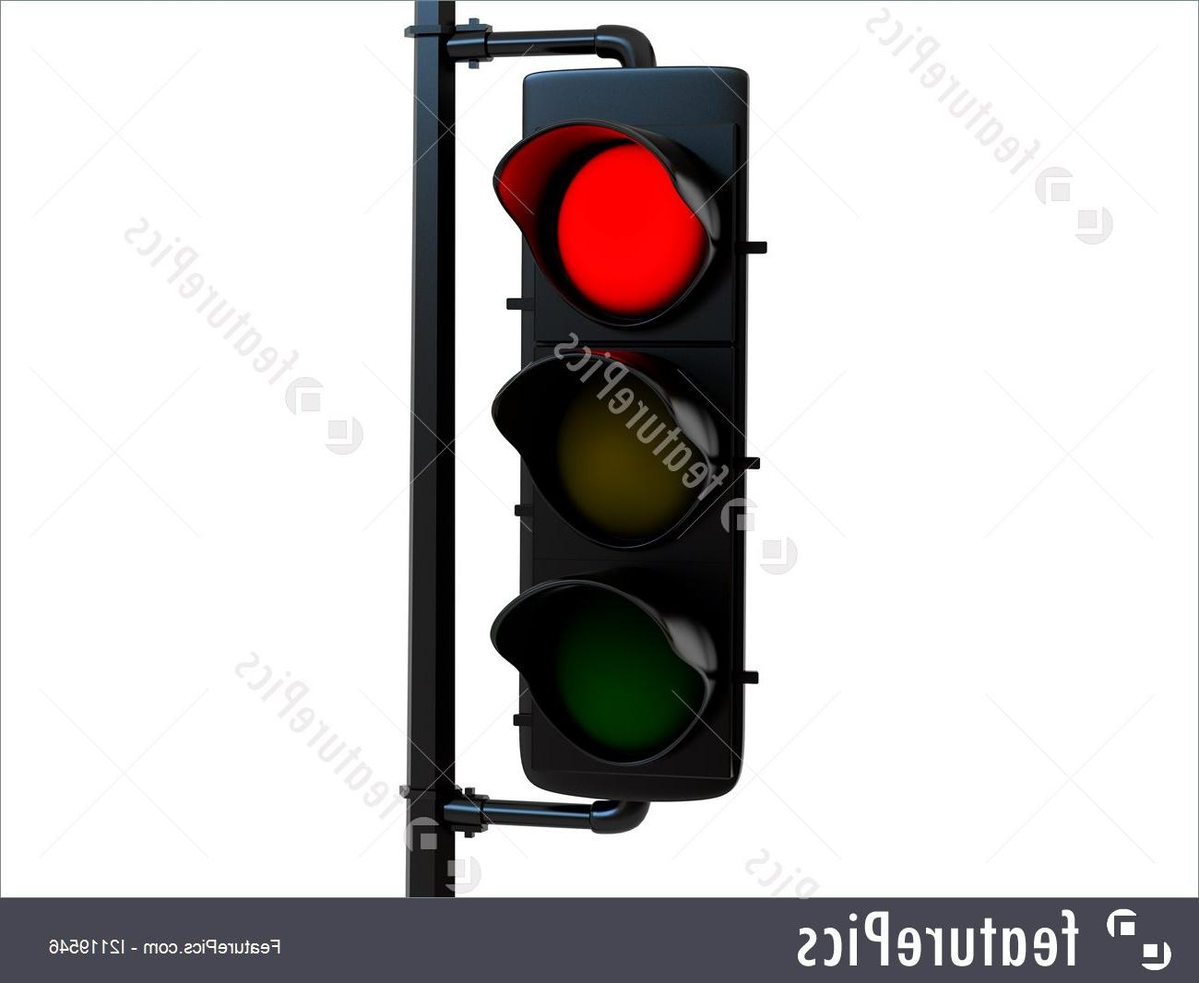red: (512, 62, 761, 805)
